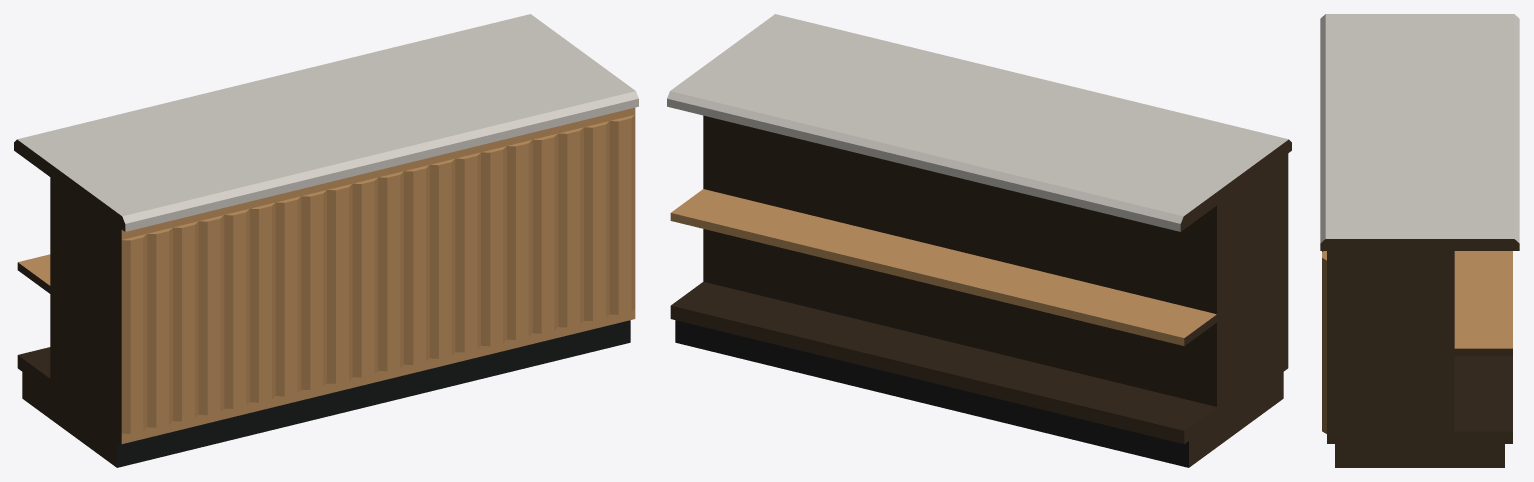
The model's file is counter.glb.
3 renders of one model, left to right at view 1: azimuth 30°, elevation 25°; view 2: azimuth 150°, elevation 25°; view 3: azimuth 270°, elevation 25°, orthographic. The views are drawn at different scales.
Visible parts, largest first — view 1: counter; view 2: counter; view 3: counter.
Boxes of the visible parts, x1,y1,x2,y2 form: counter: [14, 14, 638, 467]; counter: [667, 14, 1291, 467]; counter: [1320, 14, 1519, 467].
Size of the model in its own units: 2 by 0.95 by 0.75.
